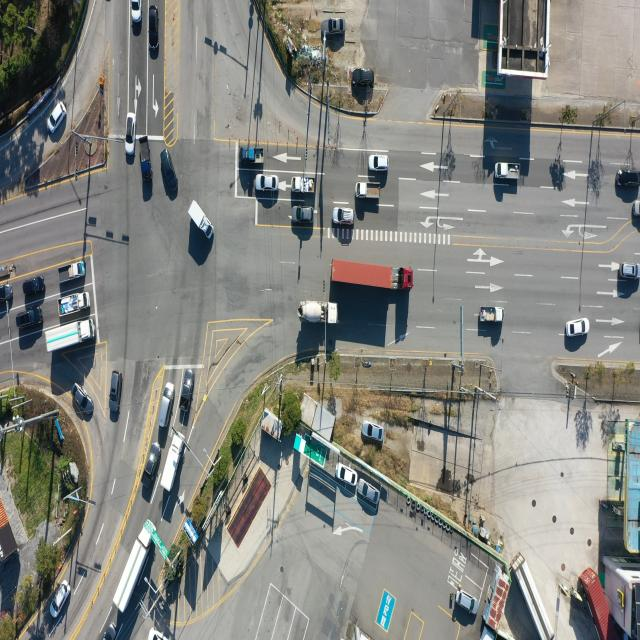car: (140, 442, 160, 490), (161, 145, 179, 197), (71, 384, 94, 419), (52, 581, 72, 621), (180, 368, 194, 424), (160, 381, 176, 427), (47, 100, 66, 134), (455, 589, 478, 616), (109, 370, 121, 420), (17, 308, 44, 330), (322, 17, 346, 39), (358, 481, 378, 506), (148, 5, 158, 52), (24, 276, 46, 296), (338, 466, 358, 488), (616, 170, 640, 188), (126, 109, 136, 152), (566, 318, 589, 336), (364, 422, 385, 441), (352, 68, 374, 86), (334, 208, 356, 225), (257, 175, 279, 191), (292, 206, 312, 223), (370, 156, 390, 172), (101, 623, 118, 640), (147, 628, 171, 640), (622, 264, 640, 279), (0, 284, 13, 304), (482, 625, 499, 640), (133, 0, 142, 22)
large_truck: (332, 262, 415, 293)
medium_truck: (116, 518, 157, 614), (518, 552, 557, 638), (46, 318, 96, 356), (159, 433, 184, 495), (298, 299, 337, 324)
small_truck: (188, 199, 214, 242), (57, 291, 91, 319), (57, 262, 87, 285), (138, 136, 152, 183), (496, 162, 522, 181), (292, 178, 315, 198), (355, 182, 381, 199), (239, 146, 263, 164), (480, 306, 506, 322)
